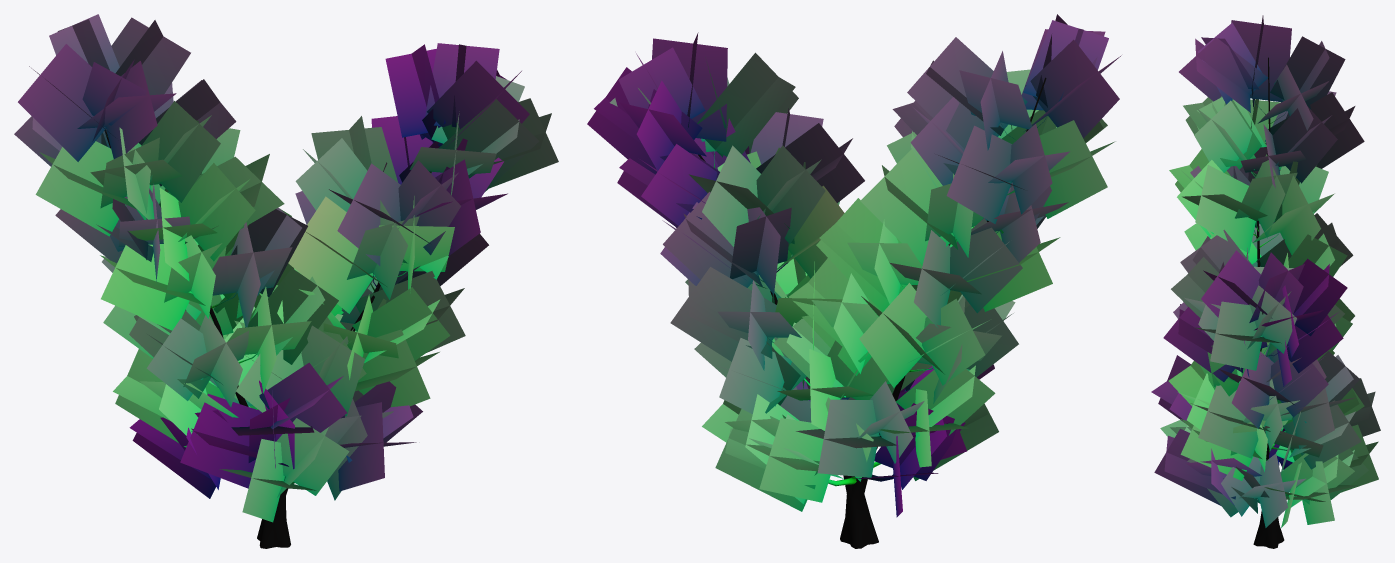
File: Tree_5_7.fbx
The picture shows the model from 3 angles, left to right: view 1: azimuth 30°, elevation 25°; view 2: azimuth 150°, elevation 25°; view 3: azimuth 270°, elevation 25°; orthographic projection. The views are drawn at different scales.
Visible parts, largest first — view 1: _7; view 2: _7; view 3: _7.
Part boxes in pixels (x1,y1,x2,y2): _7: (14,14,558,548); _7: (587,14,1121,548); _7: (1151,15,1380,548).
Bounding box in the file's own units: 2160 × 2195 × 1027.
